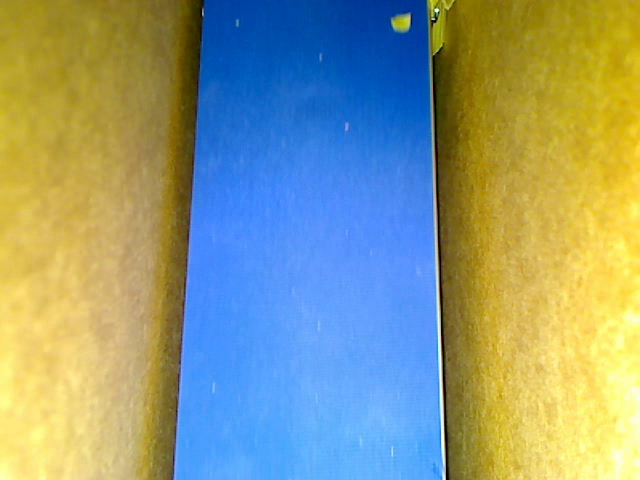penne: (424, 1, 445, 58)
